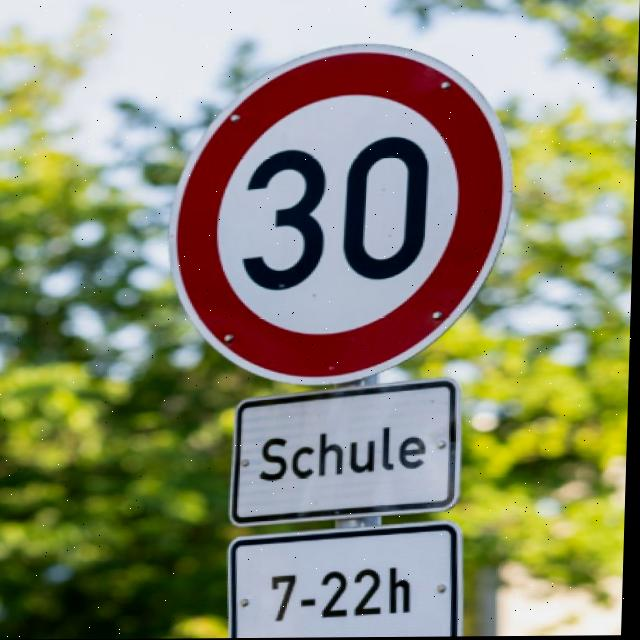Speed limit 30: (165, 41, 520, 387)
